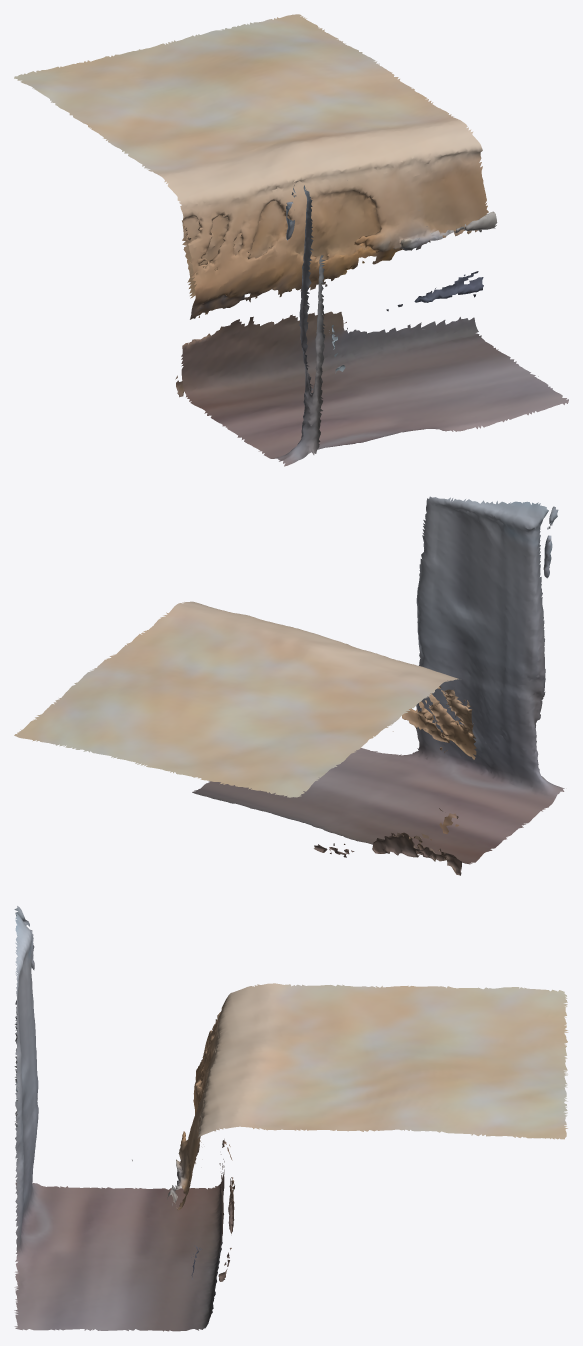
The model's file is apartment-full-28-fc2c224ef16e.glb.
3 views of the same model, one above another, from view 1: azimuth 30°, elevation 25°; view 2: azimuth 150°, elevation 25°; view 3: azimuth 270°, elevation 25° (orthographic).
Bounding box in the file's own units: 0.779 × 0.785 × 1.28.
